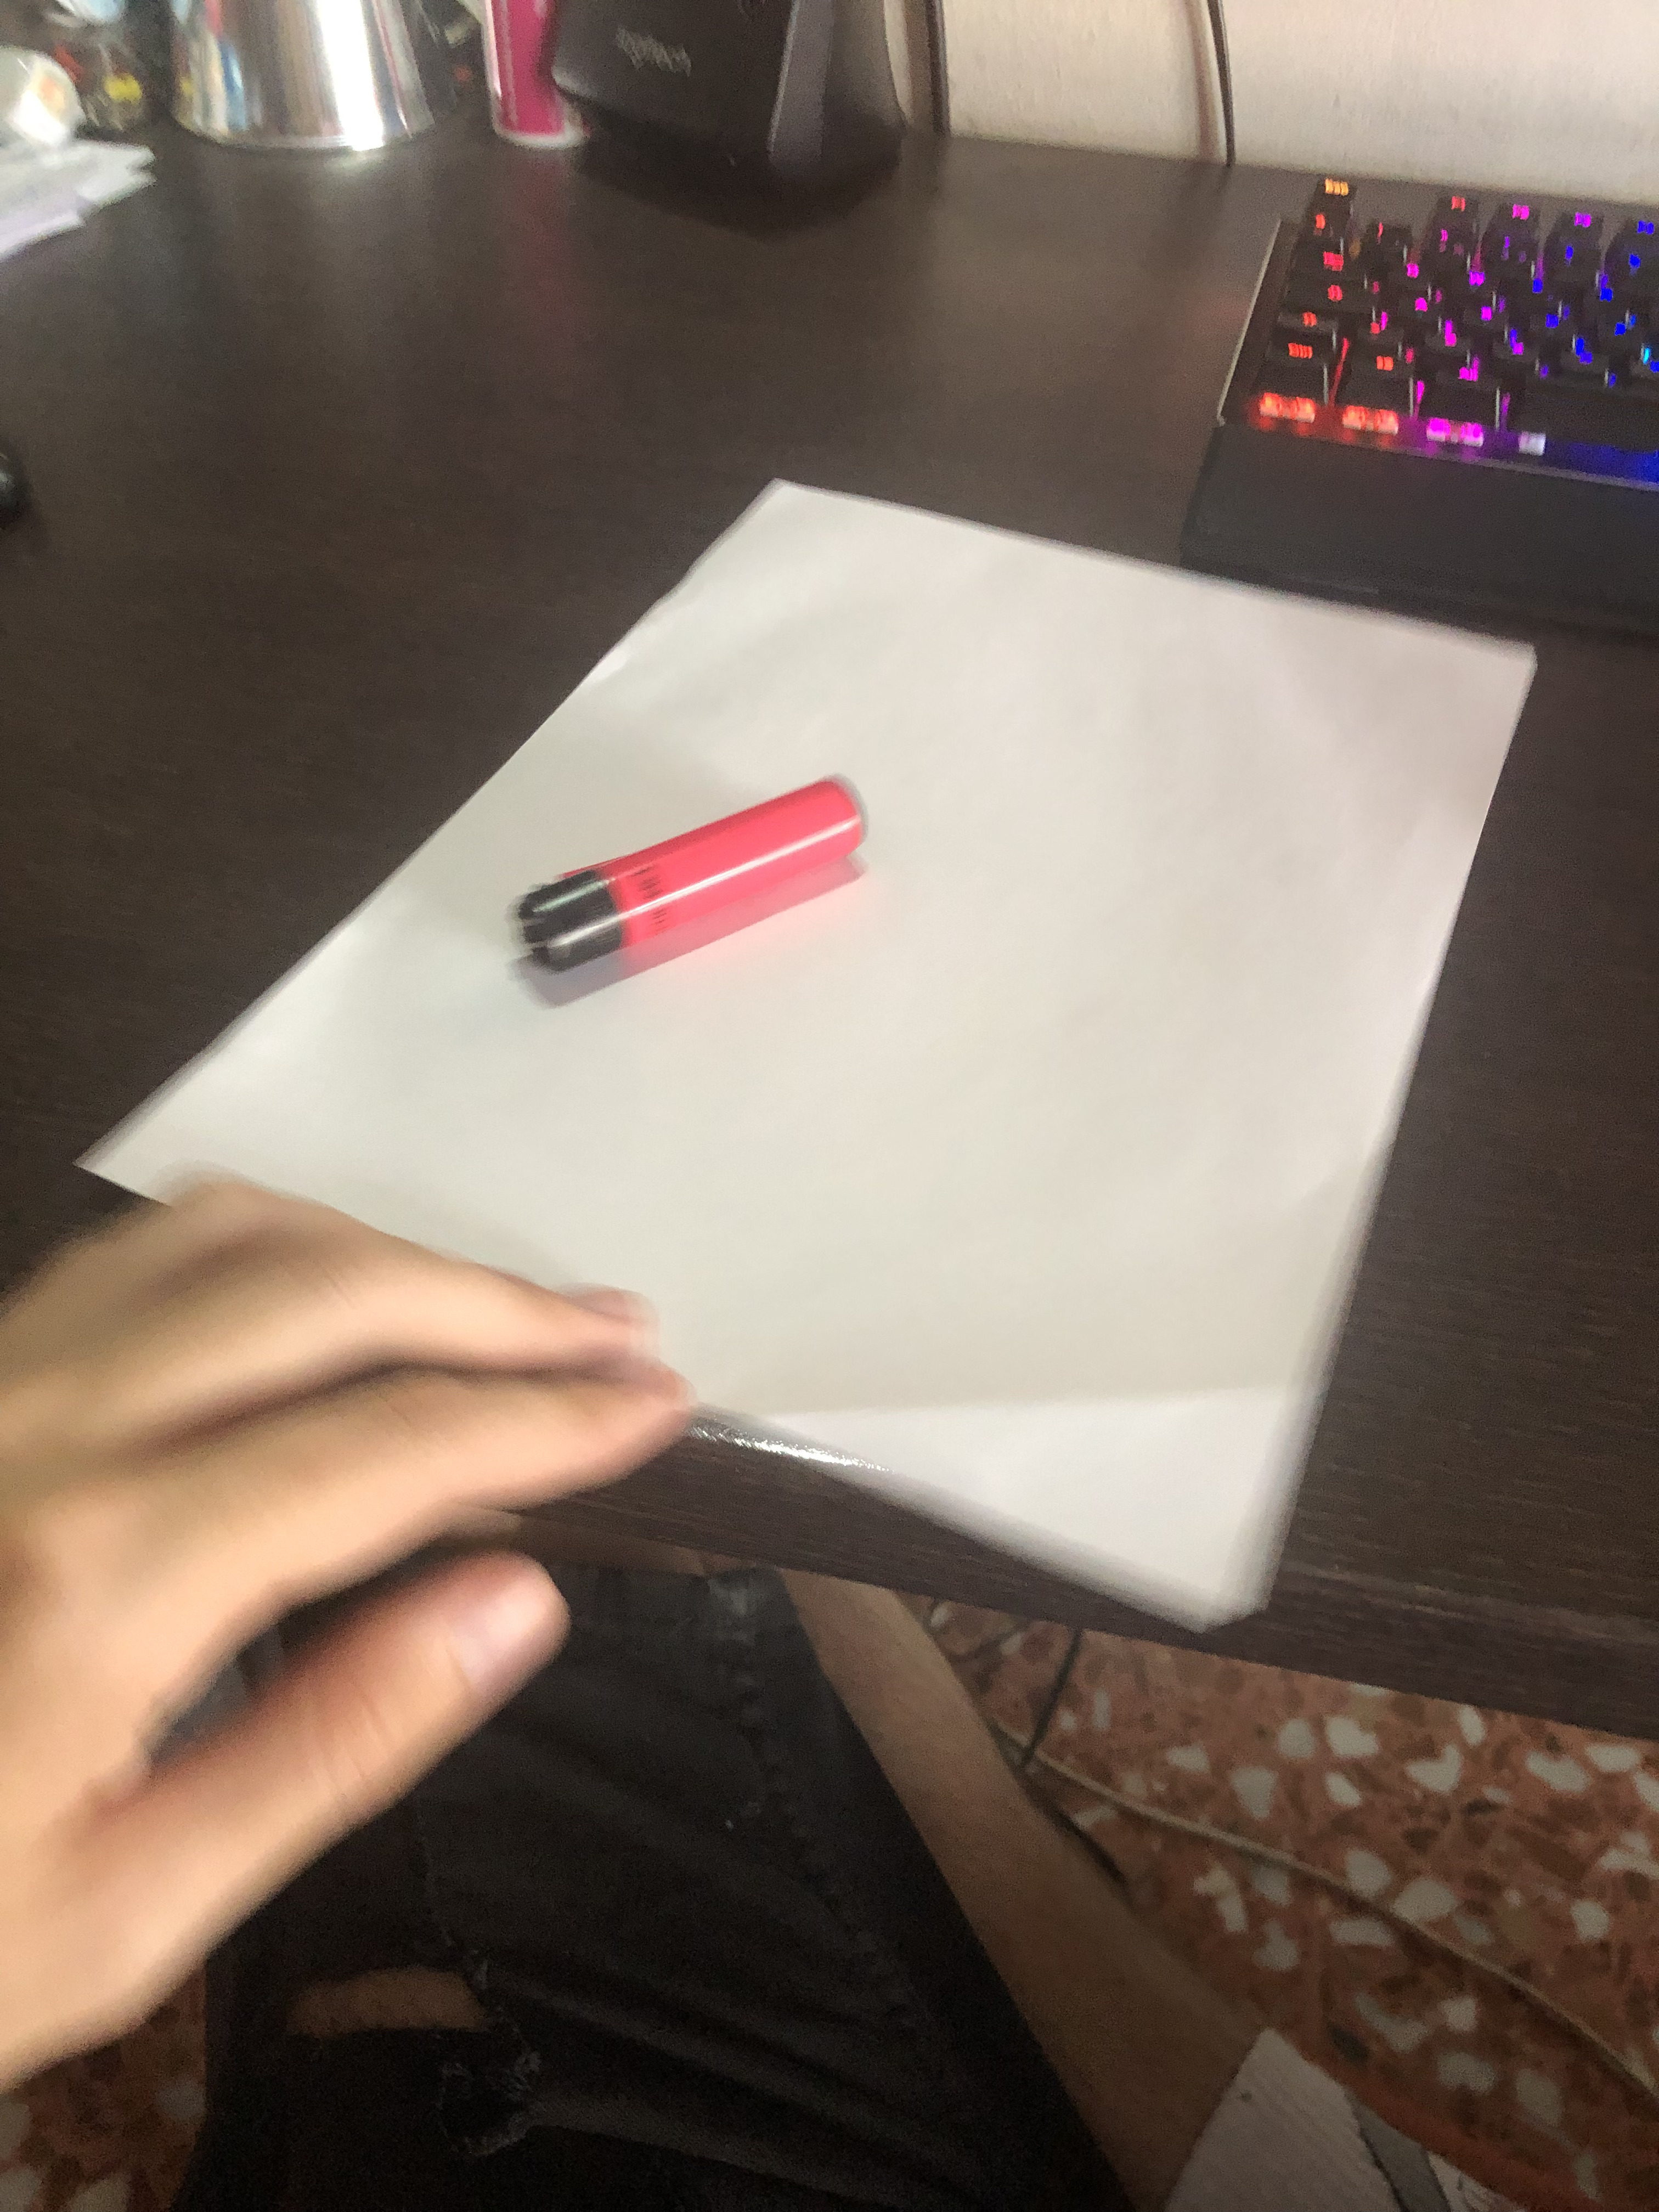Mechero: (462, 775, 924, 944)
